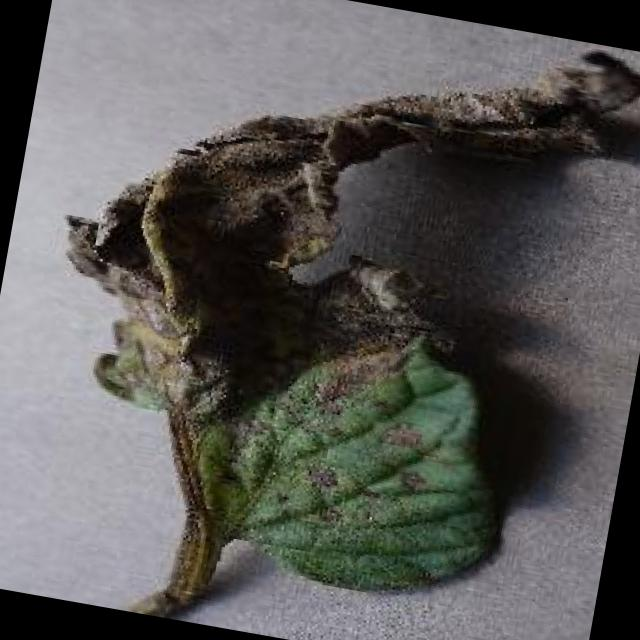Tomato_Early_Blight: (6, 0, 640, 622)
